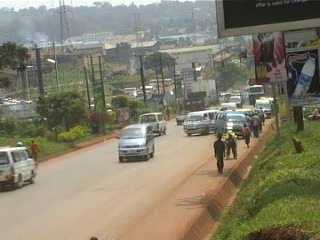Car: (114, 121, 159, 166)
